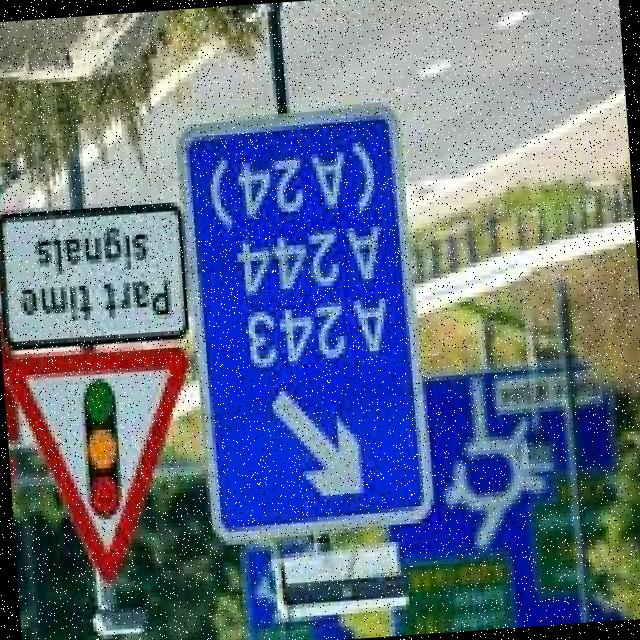light_traffic: (2, 344, 188, 586)
